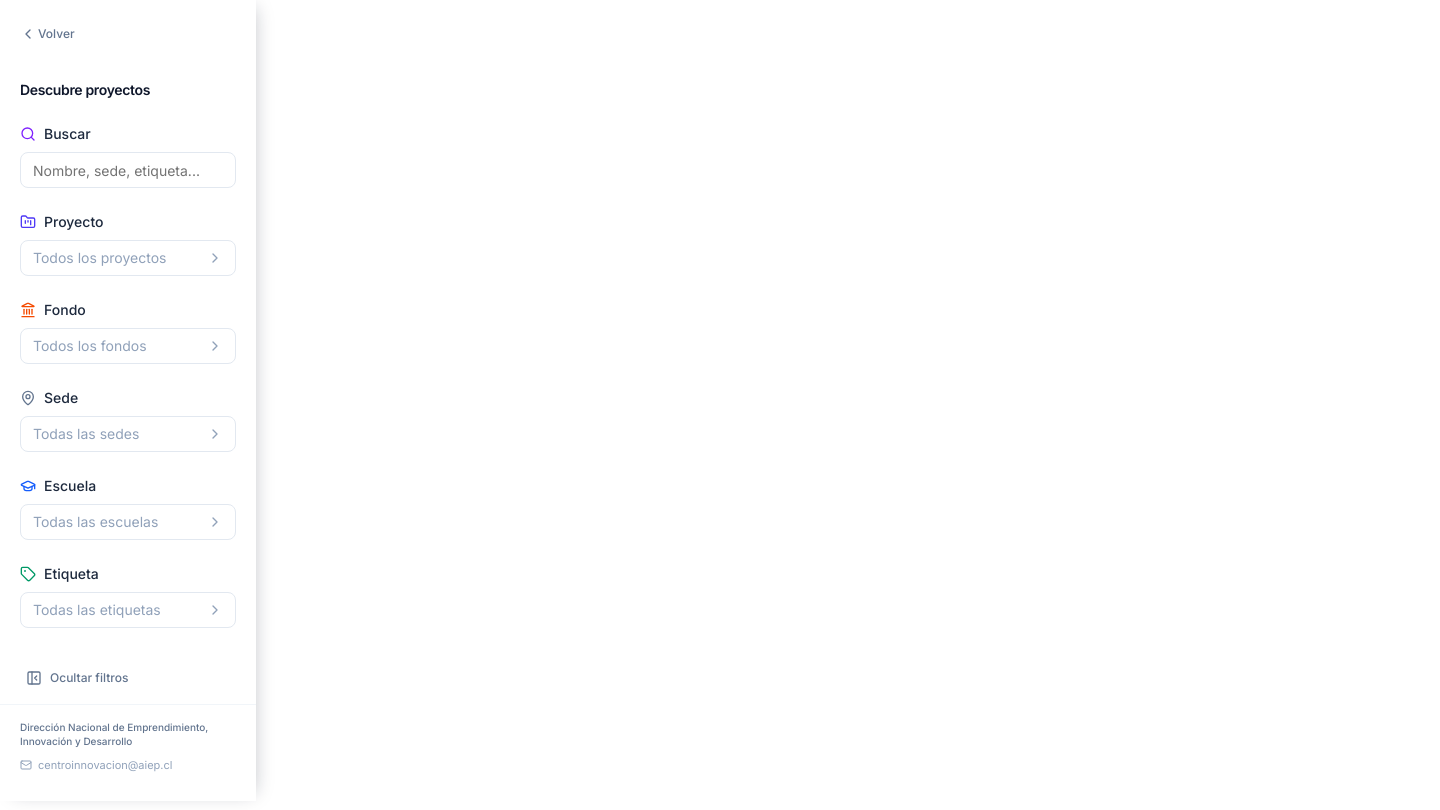
Scenario: VitrinaProjectsSidebar › abre el menú de opciones a la derecha del filtro
The width and height of the screenshot is (1440, 810).
Click the button "Todos los fondos".
click(128, 346)  # box 20,328 -> 236,364
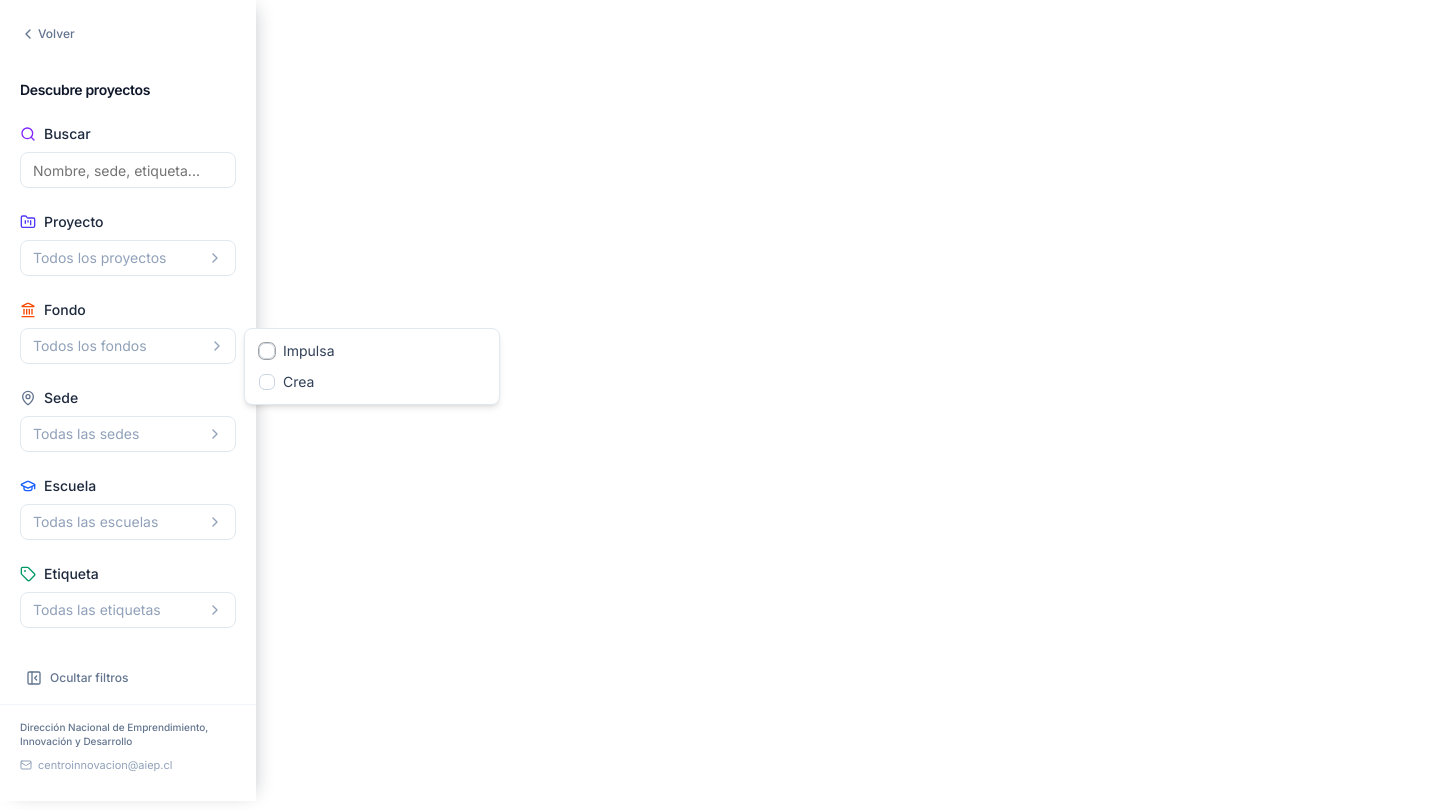
Expected: the dialog named "Fondo" shows "Impulsa", 283,342 -> 334,359
Expected: the dialog named "Fondo" shows "Crea", 283,373 -> 314,390
